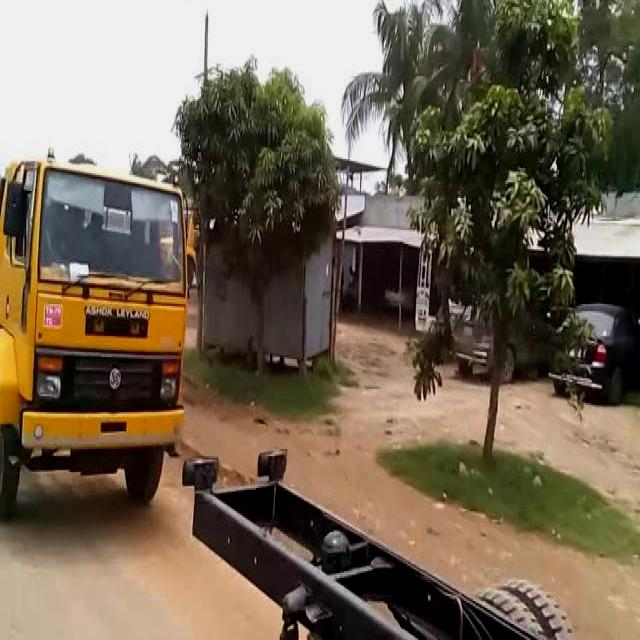TRUCK: (2, 153, 196, 515)
